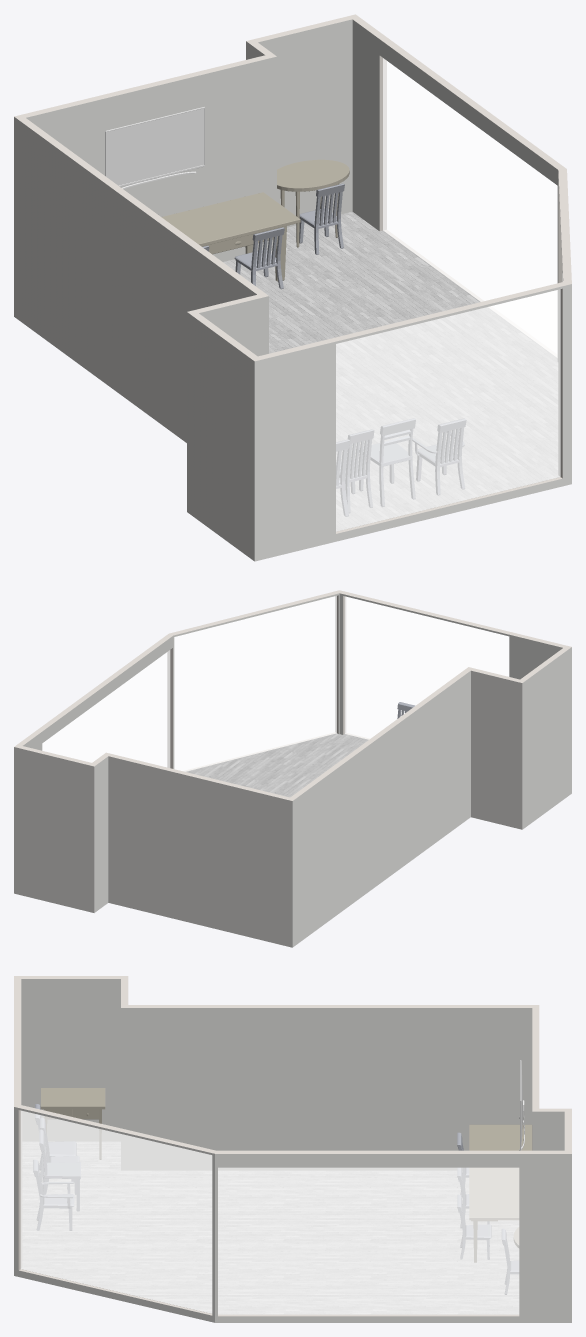
The model's file is LibraryRoom.glb.
3 renders of one model, top to bottom at view 1: azimuth 30°, elevation 25°; view 2: azimuth 150°, elevation 25°; view 3: azimuth 270°, elevation 25°, orthographic. The views are drawn at different scales.
Parts seen in each view (by area): view 1: floor_Dining_Room, door_0, door_3, wall_3, door_1, door_4, wall_6, wall_11, wall_8, wall_13, wall_19, television0 (+13 smaller); view 2: wall_1, wall_3, door_2, door_5, door_0, door_3, wall_2, door_1, door_4, wall_0, wall_8, floor_Dining_Room (+9 smaller); view 3: floor_Dining_Room, wall_15, door_1, door_4, door_2, door_5, wall_5, wall_25, table_other_rect0, wall_4, wall_20, table_other_rect1 (+9 smaller).
Part boxes in pixels (x1,y1,x2,y2): floor_Dining_Room: (223, 211, 559, 531); door_0: (336, 289, 560, 531); door_3: (336, 290, 560, 531); wall_3: (14, 117, 256, 442); door_1: (383, 58, 557, 301); door_4: (383, 58, 557, 301); wall_6: (254, 284, 571, 561); wall_11: (26, 56, 276, 261); wall_8: (187, 312, 254, 561); wall_13: (258, 19, 352, 227); wall_19: (352, 20, 558, 282); television0: (105, 107, 204, 189); wall_1: (108, 756, 292, 947); wall_3: (292, 671, 470, 947); door_2: (174, 596, 336, 771); door_5: (174, 596, 336, 771); door_0: (345, 596, 508, 739); door_3: (345, 597, 508, 739); wall_2: (14, 747, 94, 912); door_1: (42, 650, 169, 767); door_4: (42, 650, 169, 767); wall_0: (471, 670, 522, 829); wall_8: (522, 647, 571, 829); floor_Dining_Room: (186, 733, 368, 797); floor_Dining_Room: (21, 1142, 518, 1314); wall_15: (121, 1008, 532, 1170); door_1: (218, 1168, 518, 1314); door_4: (218, 1168, 518, 1314); door_2: (21, 1111, 211, 1313); door_5: (21, 1111, 211, 1313); wall_5: (215, 1154, 571, 1322); wall_25: (21, 979, 120, 1141); table_other_rect0: (469, 1124, 532, 1262); wall_4: (14, 1107, 214, 1322); wall_20: (215, 1150, 571, 1316); table_other_rect1: (41, 1088, 105, 1159).
Size of the model in its own units: 5.8 by 2.57 by 7.69.
34 materials, 1 textured.
